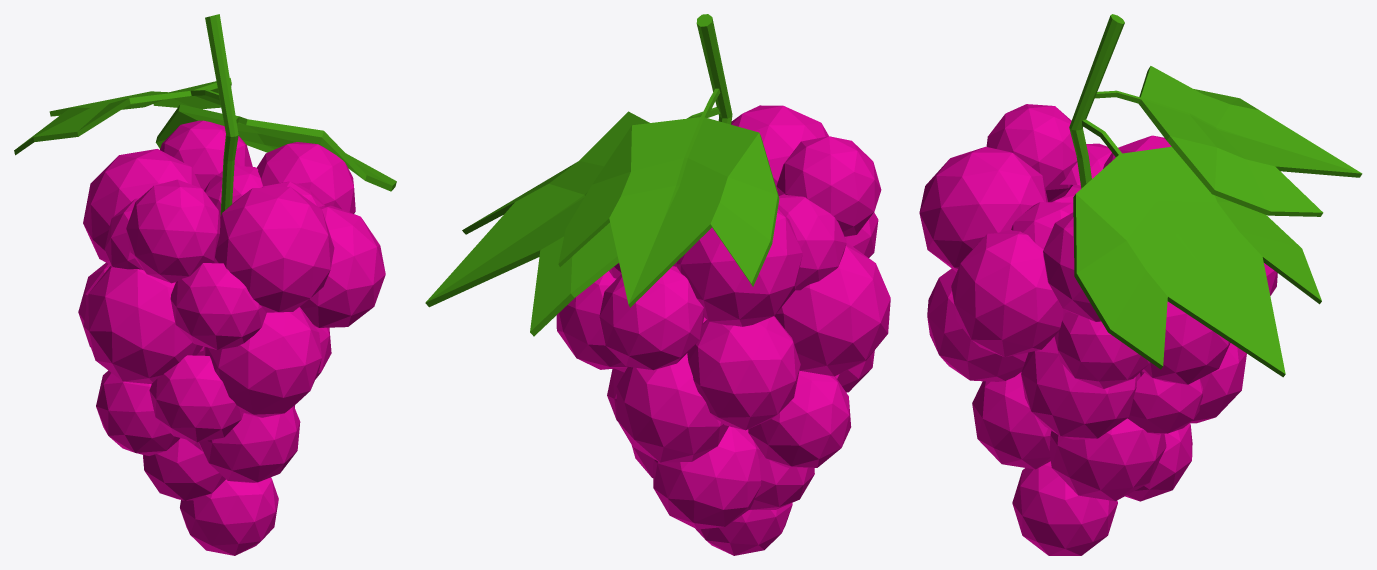
The model's file is grapes.fbx.
The picture shows the model from 3 angles, left to right: view 1: azimuth 30°, elevation 25°; view 2: azimuth 150°, elevation 25°; view 3: azimuth 270°, elevation 25°; orthographic projection. The views are drawn at different scales.
Visible parts, largest first — view 1: Icosphere.015_Icosphere.018; view 2: Icosphere.015_Icosphere.018; view 3: Icosphere.015_Icosphere.018.
Boxes of the visible parts, x1,y1,x2,y2 form: Icosphere.015_Icosphere.018: [14, 14, 396, 555]; Icosphere.015_Icosphere.018: [425, 14, 890, 555]; Icosphere.015_Icosphere.018: [919, 14, 1362, 555].
Bounding box in the file's own units: 695 × 984 × 728.
